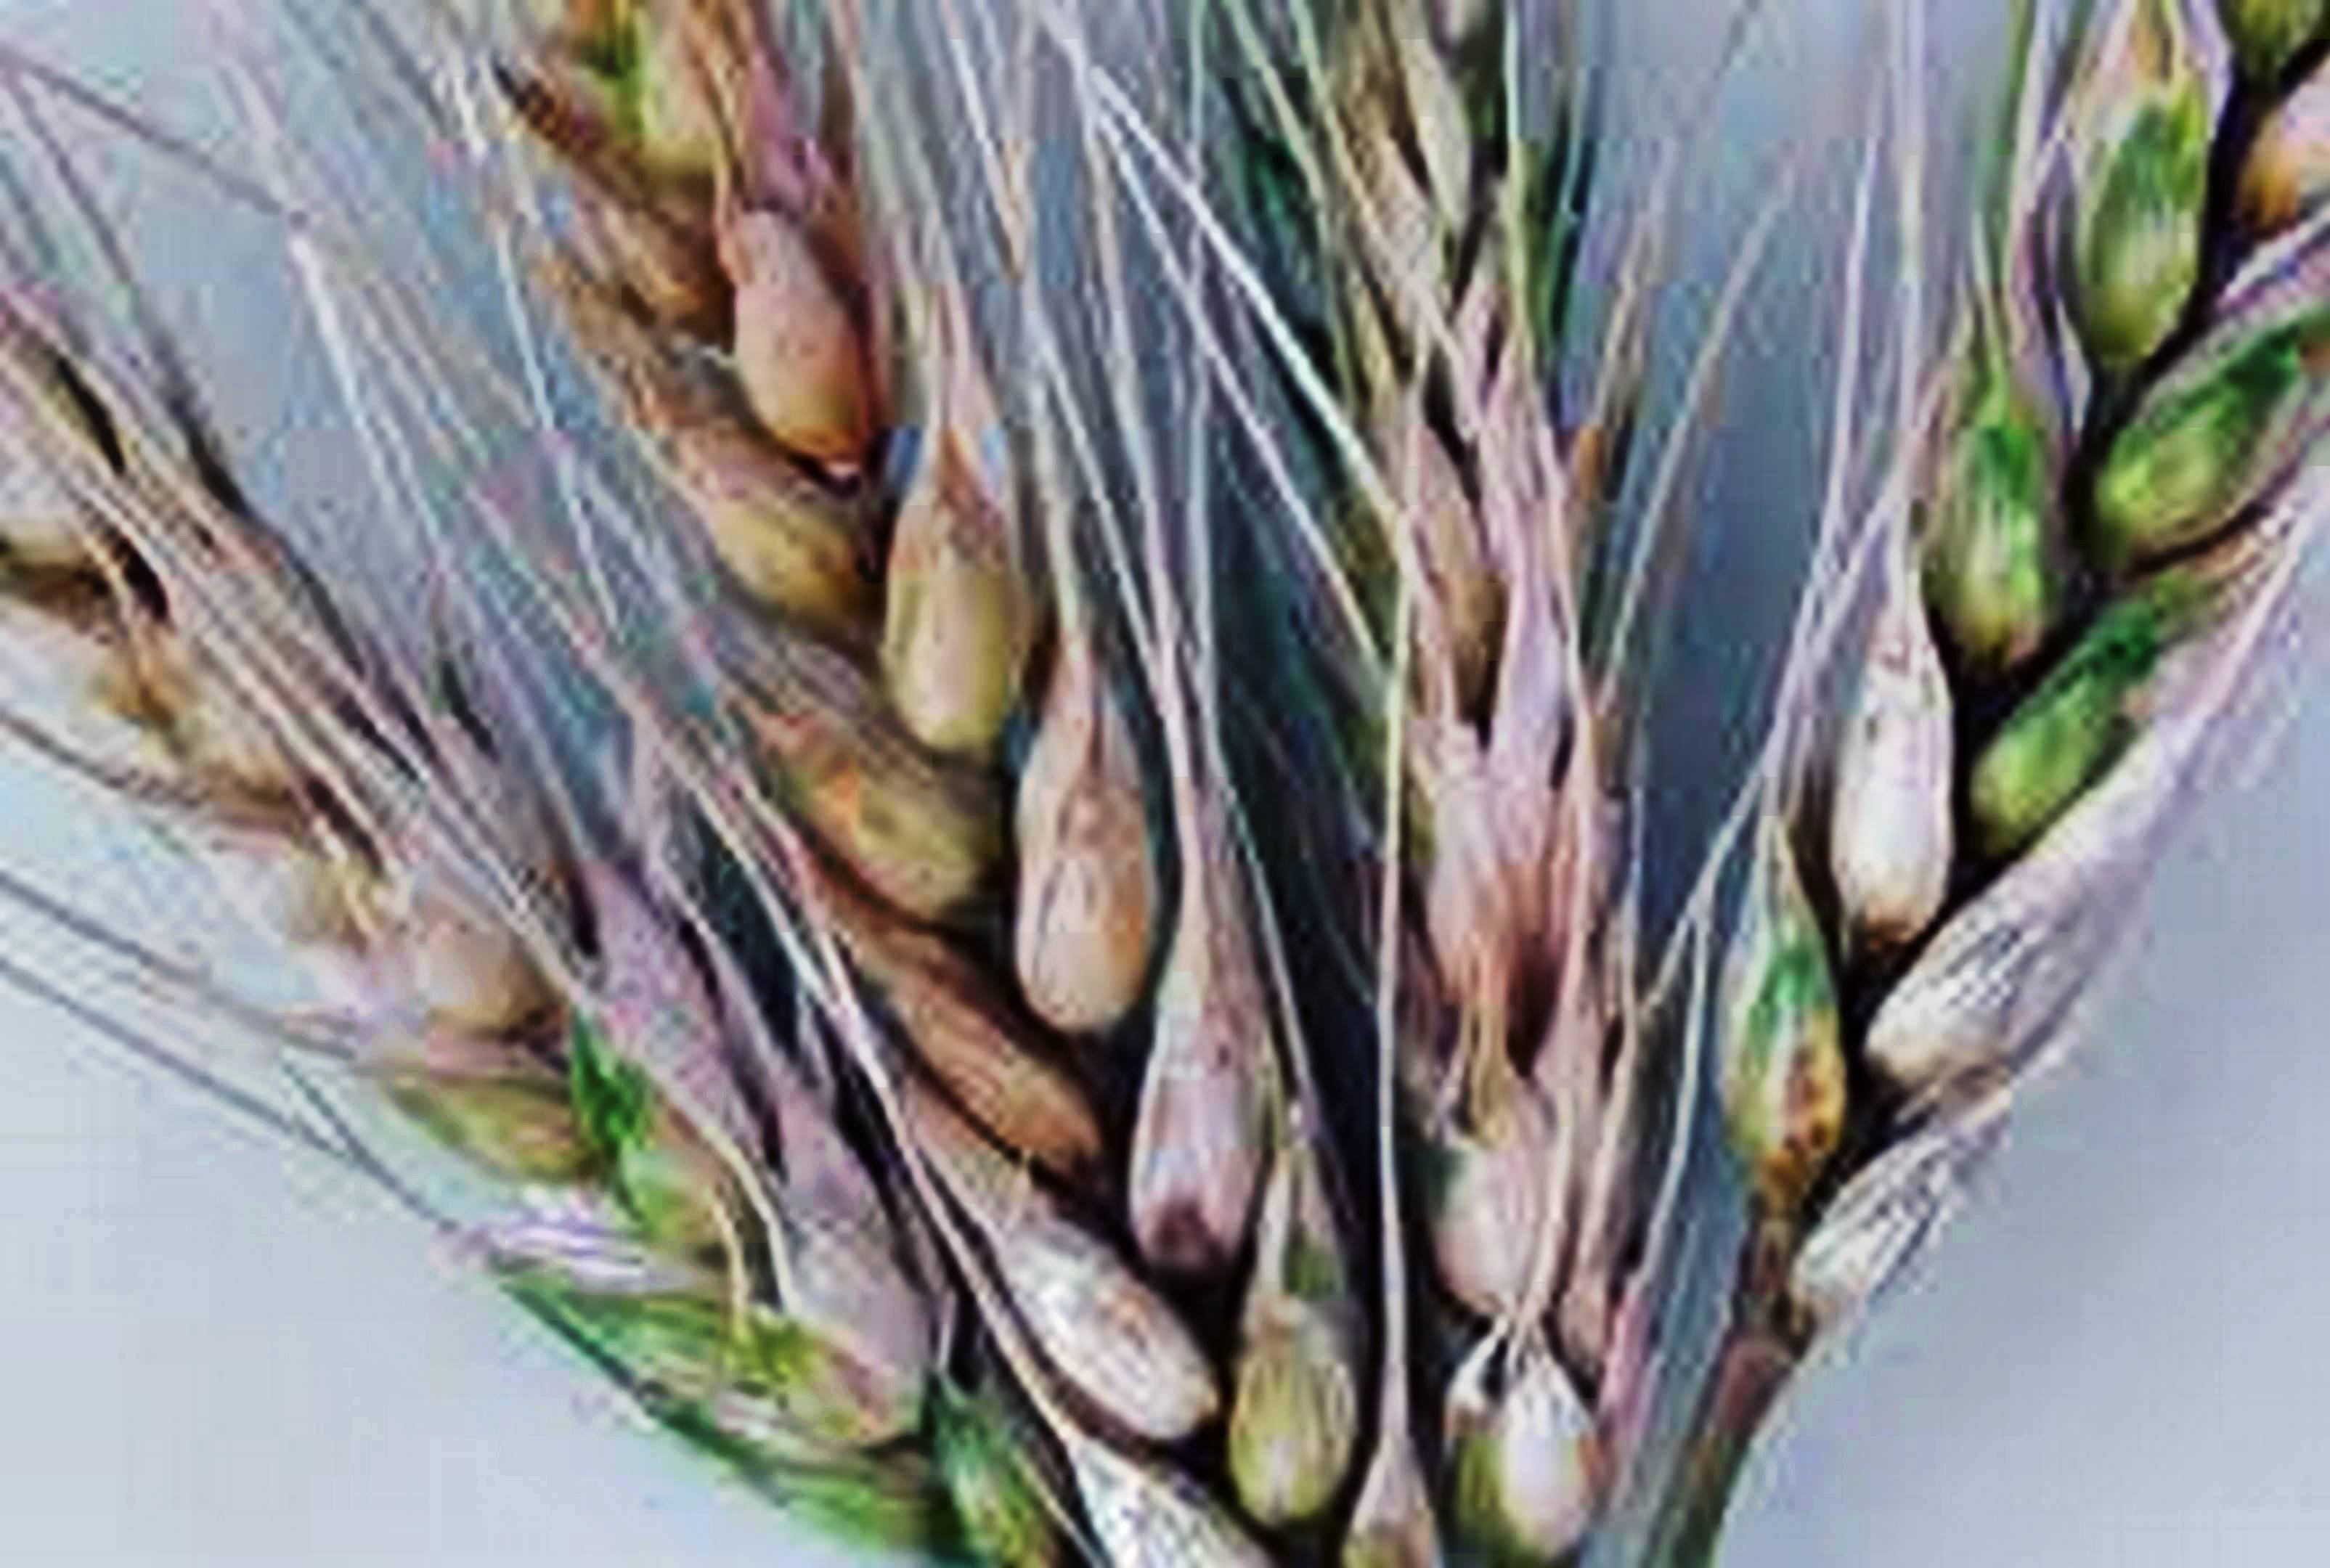Wheat scab: (1194, 14, 2330, 1568)
